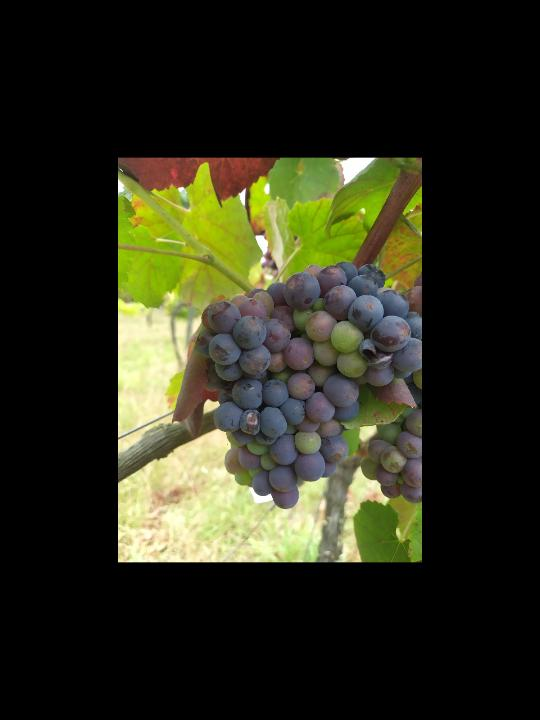grape: (191, 260, 422, 511)
